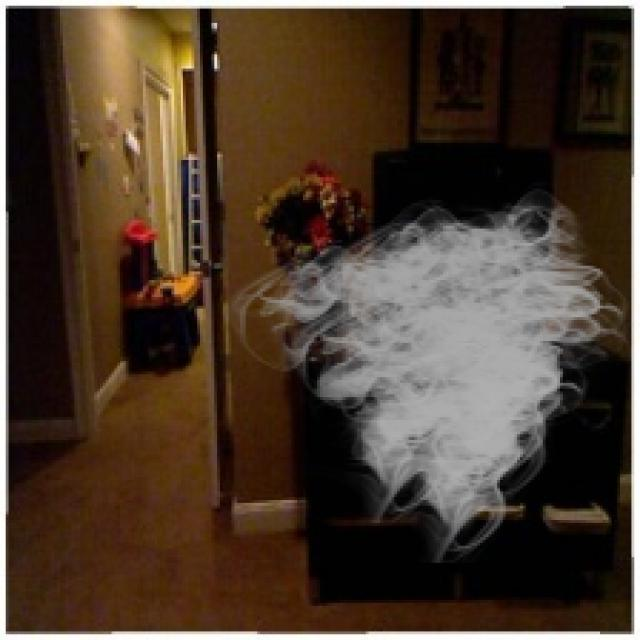smoke: (223, 180, 637, 566)
